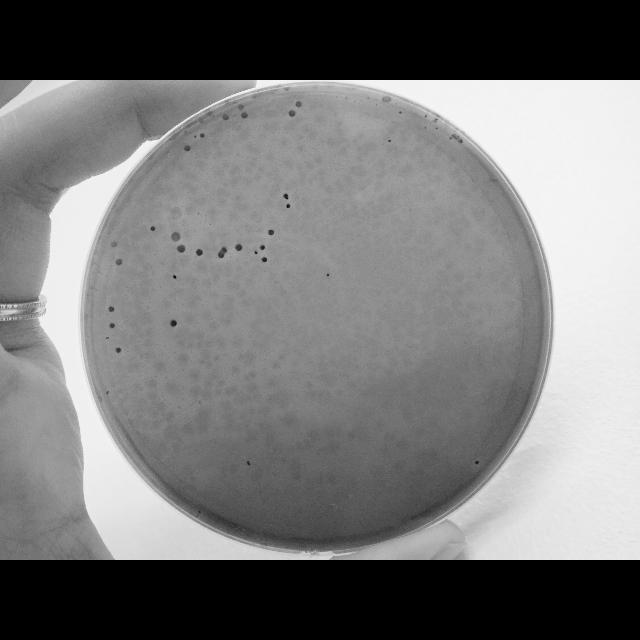colony: (171, 231, 181, 241), (177, 244, 186, 253), (110, 238, 118, 248), (169, 319, 177, 327), (288, 109, 296, 117), (195, 248, 203, 256), (235, 243, 243, 251), (115, 258, 123, 266), (108, 322, 115, 330), (183, 144, 190, 152), (218, 251, 225, 259), (115, 346, 121, 354), (296, 100, 302, 108), (240, 112, 248, 118), (222, 114, 230, 120), (222, 246, 228, 254), (268, 228, 274, 236), (237, 104, 245, 110), (108, 306, 114, 312), (474, 459, 480, 465), (150, 226, 156, 232), (260, 244, 266, 250), (262, 257, 268, 263), (283, 192, 289, 198), (246, 460, 250, 466), (388, 138, 392, 144), (398, 110, 404, 114), (200, 132, 204, 138), (326, 272, 330, 278), (105, 336, 109, 340), (106, 390, 110, 394), (198, 510, 202, 514), (424, 126, 428, 130), (424, 114, 428, 118), (435, 126, 439, 130), (449, 136, 453, 140), (254, 251, 258, 255), (173, 275, 177, 279), (286, 204, 290, 208), (194, 134, 196, 138), (286, 197, 288, 199)
